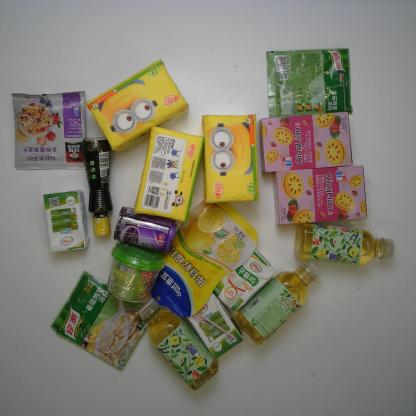Canned Food: (112, 204, 178, 258)
Dessert: (254, 111, 354, 174), (271, 164, 368, 226)
Dried Fruit: (146, 193, 260, 320)
Drink: (135, 294, 220, 392), (233, 256, 322, 348), (292, 220, 397, 268)
Instant Drink: (8, 88, 88, 172), (105, 240, 165, 305)
Milk: (211, 247, 278, 314), (186, 291, 245, 360), (42, 188, 90, 254)
Seasoner: (48, 268, 150, 372), (265, 46, 354, 120), (80, 135, 118, 238)
Tissue: (84, 57, 191, 155), (132, 122, 206, 226), (199, 110, 262, 207)
